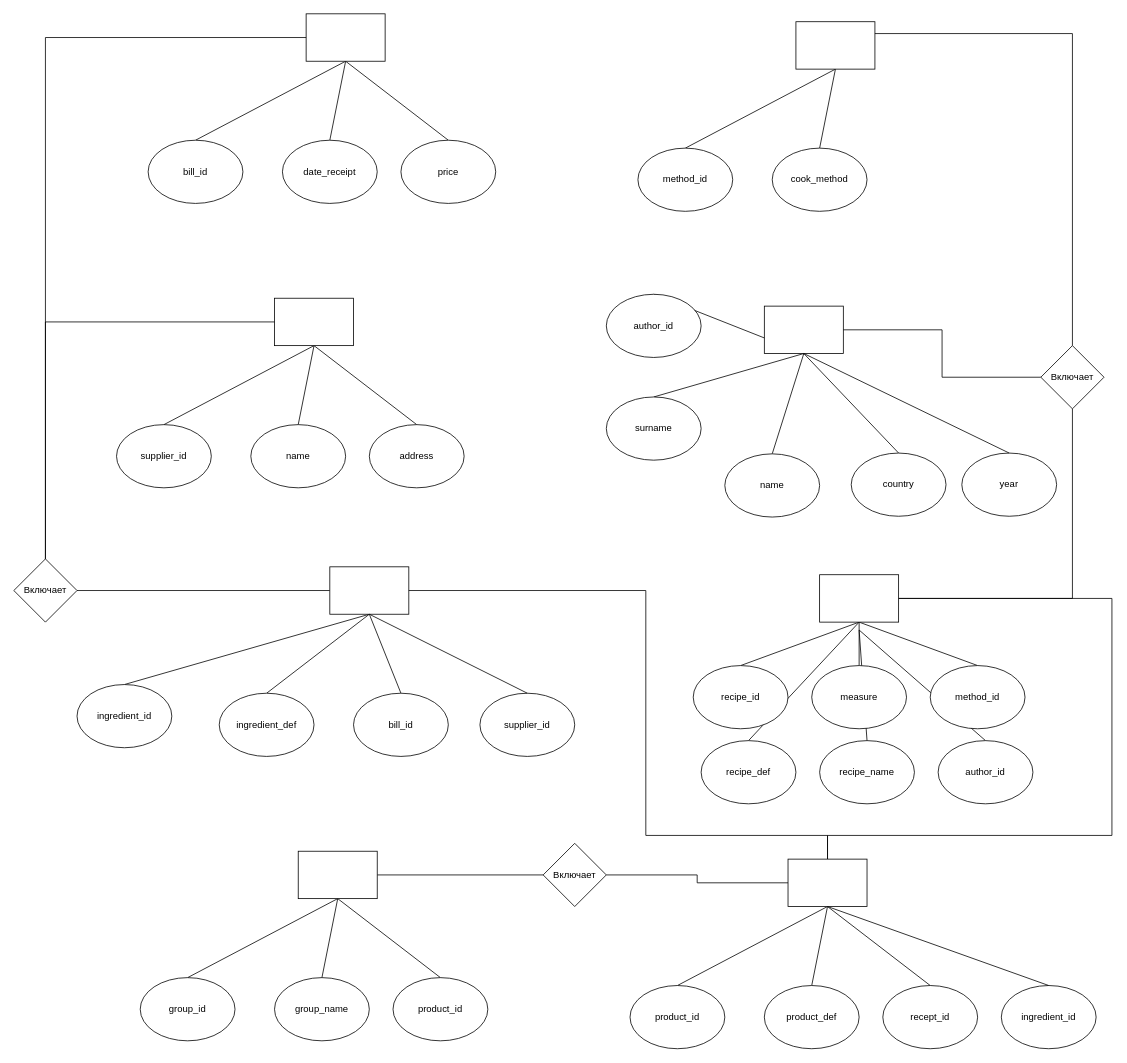
This 1127x1063 diagram has some shape labels left out. The centre of each missing label's shape, as x and y in pixels:
Авторы: the point at 803,329
Группа продуктов: the point at 337,874
Ингридиенты: the point at 369,590
Метод приготовления: the point at 835,45
Поставки: the point at 345,37
Поставщики: the point at 314,321
Продукты: the point at 827,882
Рецепты: the point at 859,598
